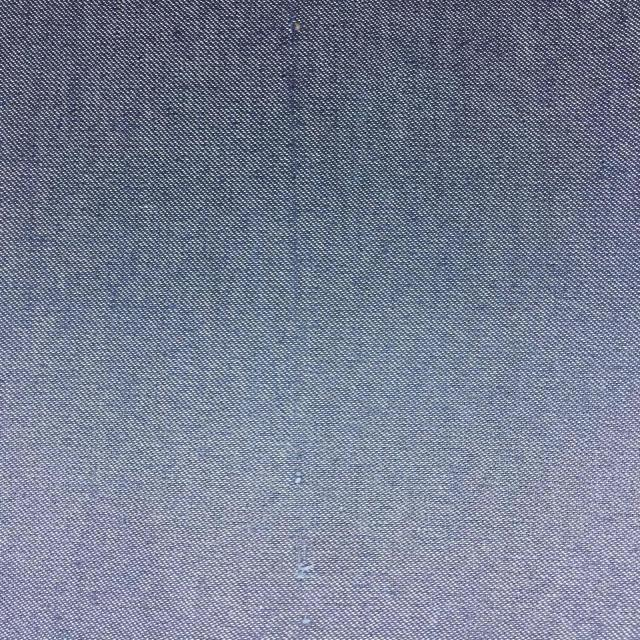Knot: (291, 531, 316, 582), (290, 470, 308, 488), (300, 616, 315, 628)
Line: (282, 0, 303, 378)
